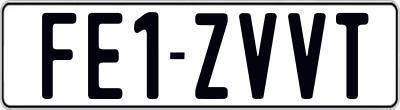1: (134, 9, 158, 102)
E: (85, 10, 124, 102)
F: (39, 12, 78, 101)
T: (335, 11, 369, 102)
V: (238, 11, 280, 102), (288, 10, 329, 99)
Z: (192, 13, 227, 101)
